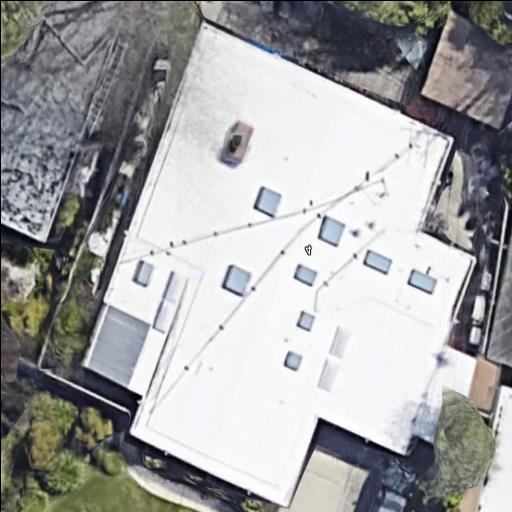Flat Roof: (78, 20, 478, 507)
